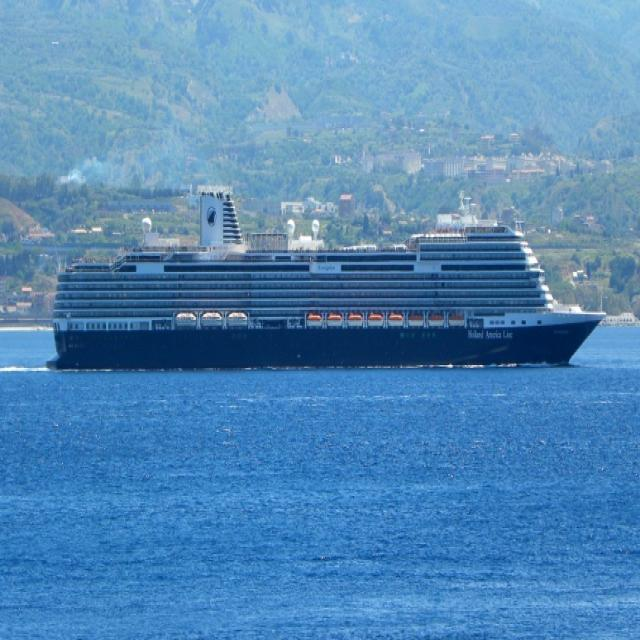cruises: (48, 189, 611, 387)
